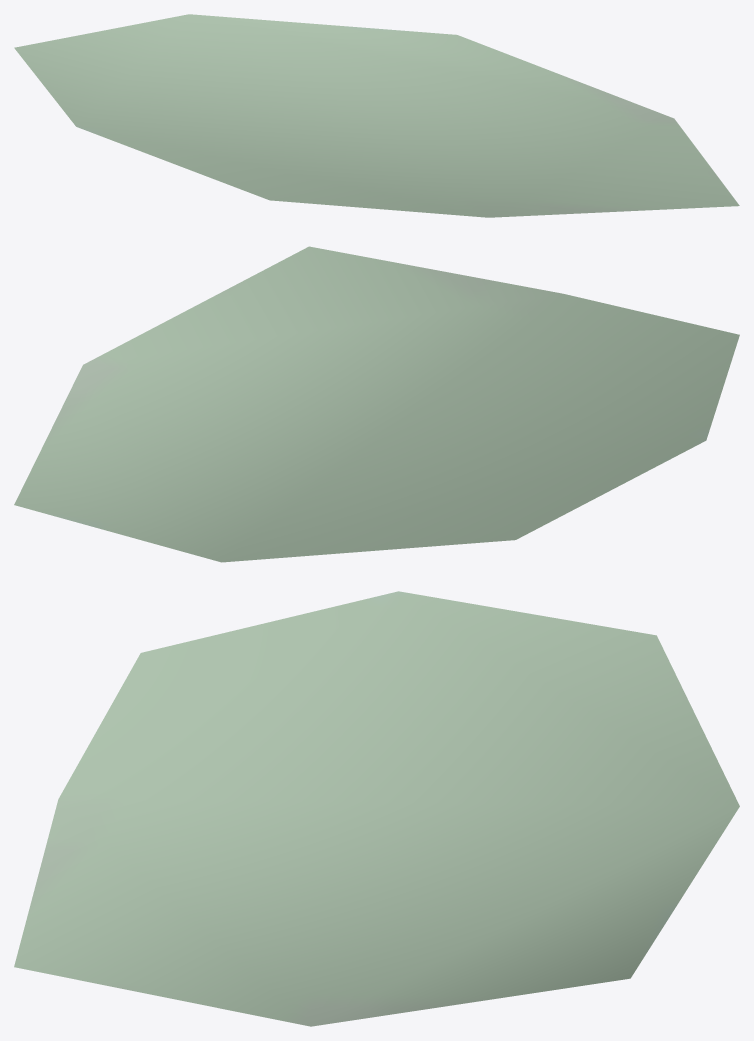
The model's file is TROLLHOLE02_HOLECAP35.fbx.
3 renders of one model, top to bottom at view 1: azimuth 30°, elevation 25°; view 2: azimuth 150°, elevation 25°; view 3: azimuth 270°, elevation 25°, orthographic. The views are drawn at different scales.
Parts seen in each view (by area): view 1: TROLLHOLE02_HOLECAP35; view 2: TROLLHOLE02_HOLECAP35; view 3: TROLLHOLE02_HOLECAP35.
Boxes of the visible parts, x1=… form: TROLLHOLE02_HOLECAP35: x1=14, y1=14, x2=739, y2=217; TROLLHOLE02_HOLECAP35: x1=14, y1=246, x2=739, y2=562; TROLLHOLE02_HOLECAP35: x1=14, y1=591, x2=739, y2=1026.
Size of the model in its own units: 31475 by 5412 by 30359.
1 material, 1 textured.
